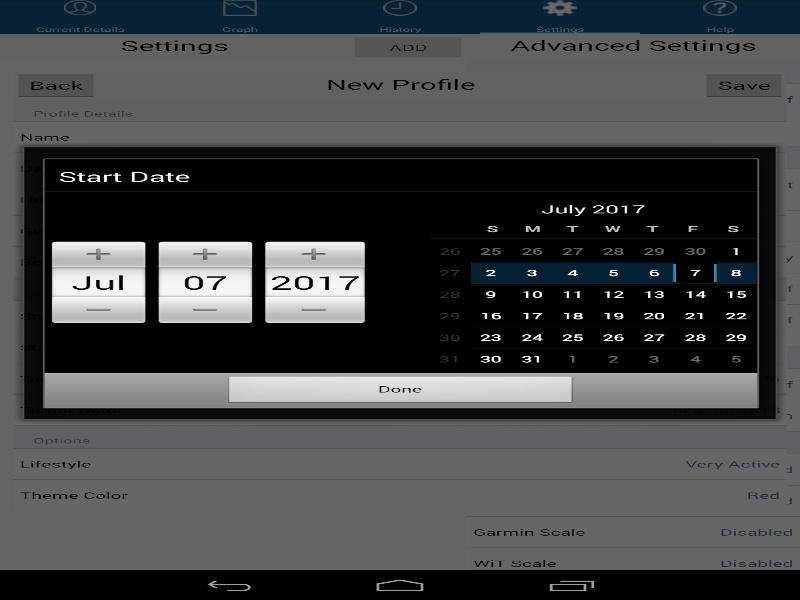Button: (224, 375, 577, 405), (260, 240, 370, 267), (260, 297, 370, 324), (46, 240, 150, 267), (46, 297, 150, 324), (153, 240, 257, 267), (153, 297, 257, 324)
Input: (260, 267, 370, 297), (46, 267, 150, 297), (153, 267, 257, 297)
